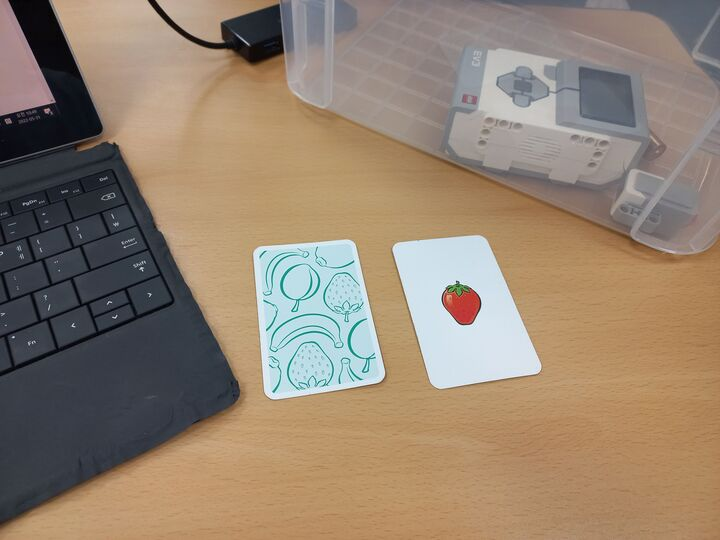strawberry1: (391, 233, 546, 393)
